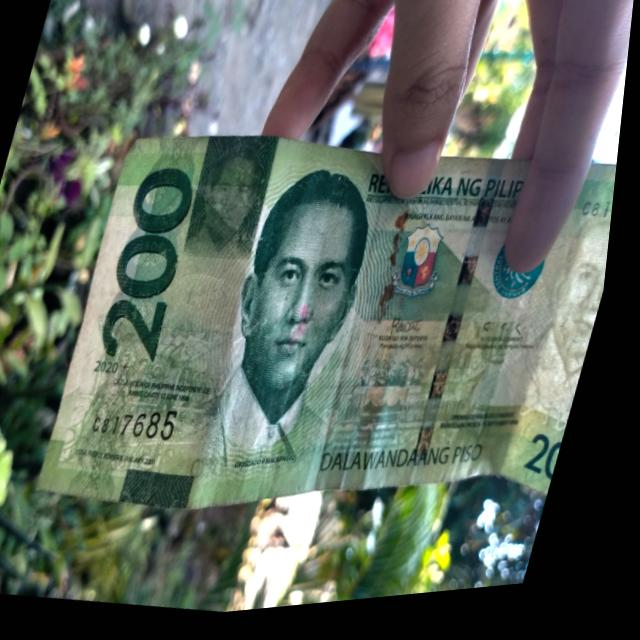concealed_value: (182, 125, 290, 275)
security_thread: (410, 171, 513, 494)
serial_number: (91, 400, 196, 460)
value: (95, 156, 217, 371)
watermark: (521, 224, 618, 432)
